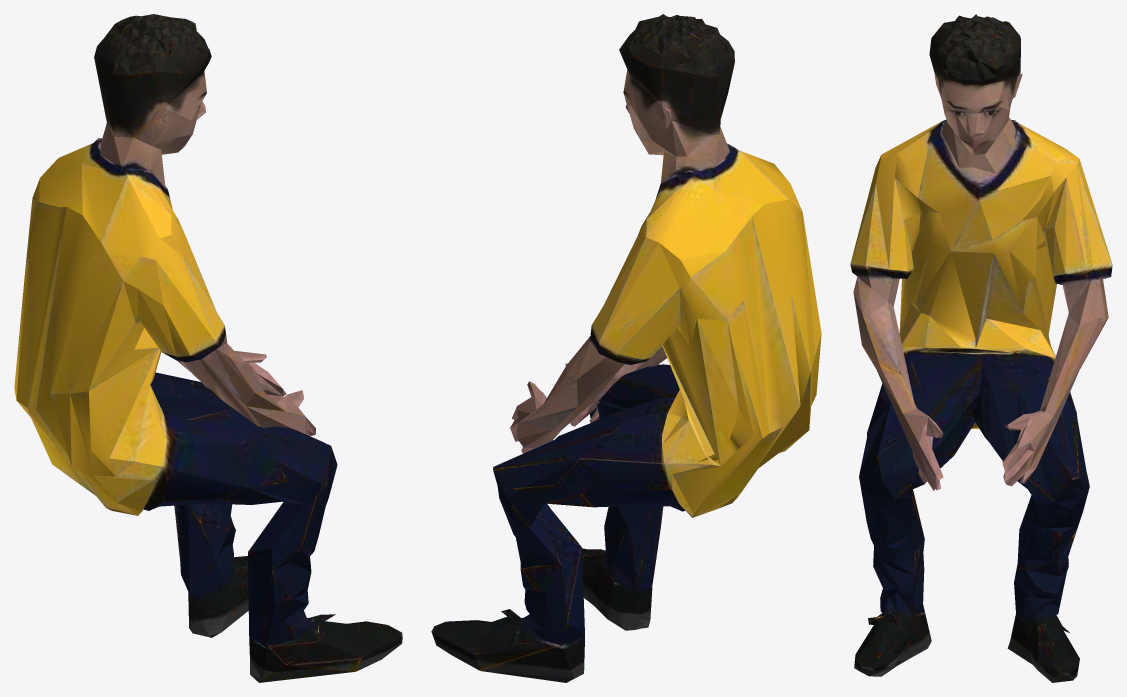
The model's file is crowd-fan-3.glb.
3 views of the same model, side by side, from view 1: azimuth 30°, elevation 25°; view 2: azimuth 150°, elevation 25°; view 3: azimuth 270°, elevation 25° (orthographic). The views are drawn at different scales.
Visible parts, largest first — view 1: char1; view 2: char1; view 3: char1.
Part boxes in pixels (x1=…): char1: x1=14, y1=14, x2=402, y2=682; char1: x1=431, y1=14, x2=821, y2=682; char1: x1=850, y1=14, x2=1112, y2=682.
Bounding box in the file's own units: 0.647 × 1.28 × 0.5071.
1 material, 1 textured.
